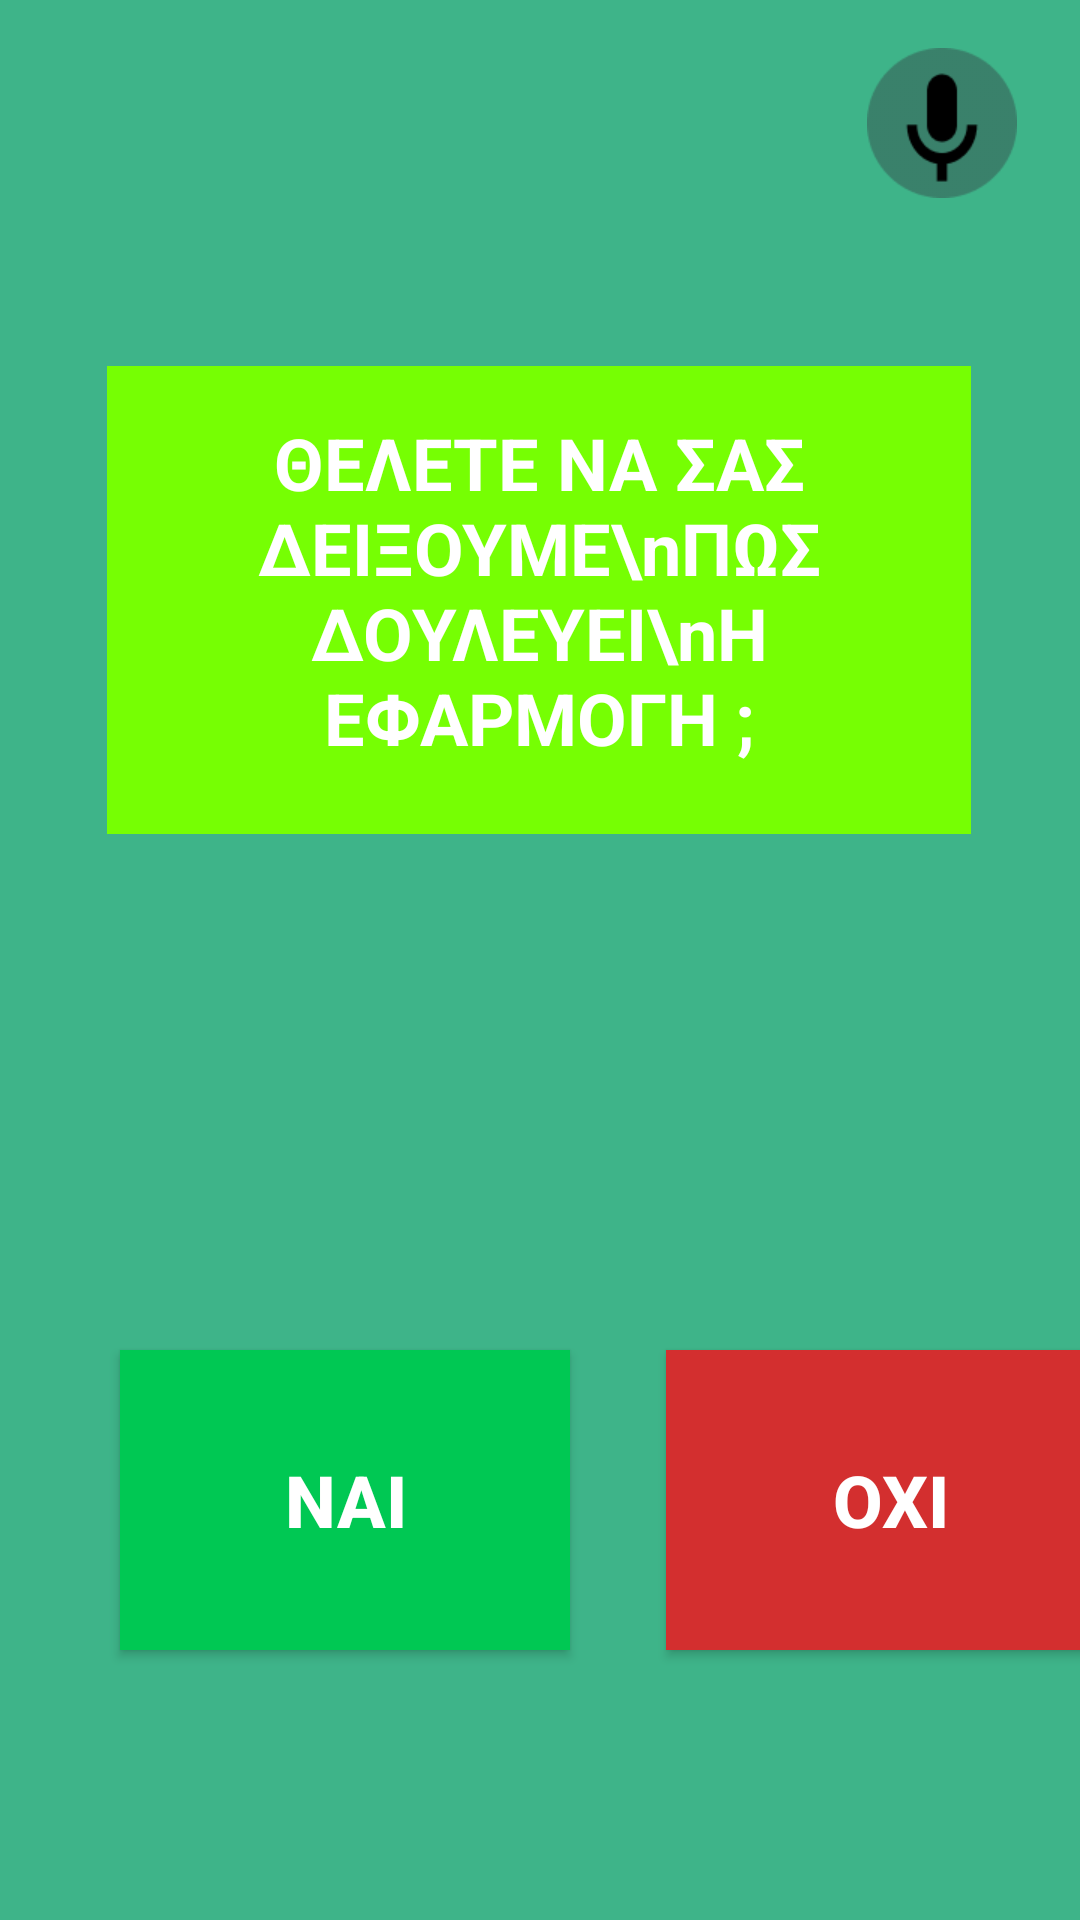

Named icons in this screenshot (1080×1920) and their centers, (x=x, y=y):
Μικρόφωνο: (x=942, y=123)
